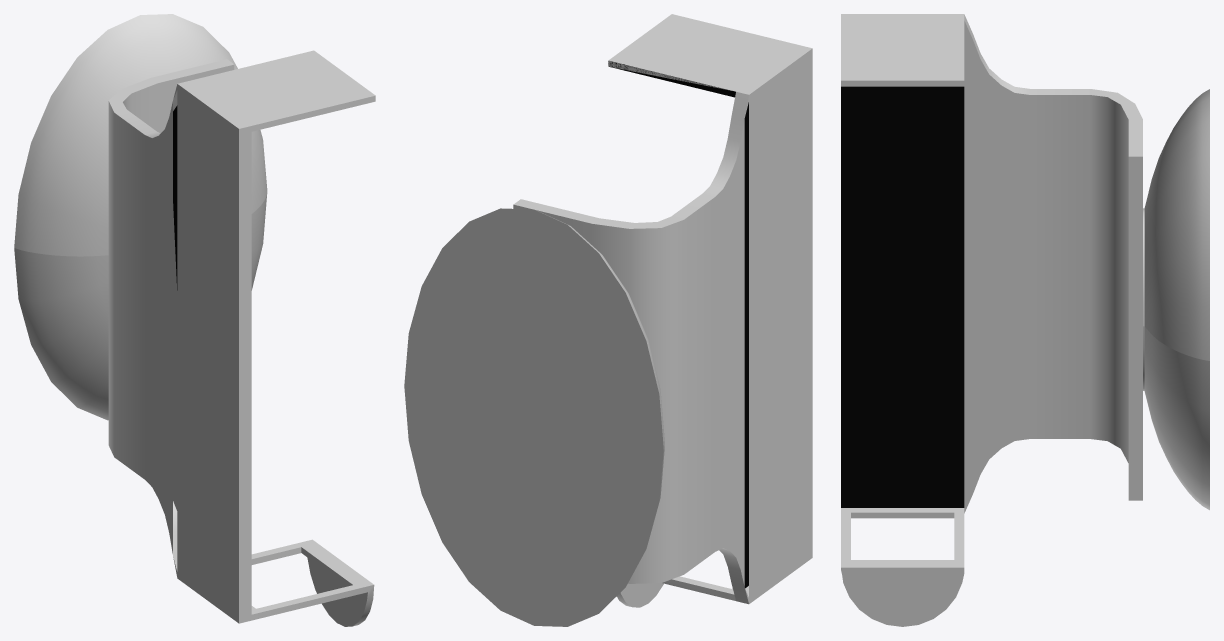
The model's file is support1.gltf.
The picture shows the model from 3 angles, left to right: view 1: azimuth 30°, elevation 25°; view 2: azimuth 150°, elevation 25°; view 3: azimuth 270°, elevation 25°; orthographic projection. The views are drawn at different scales.
Visible parts, largest first — view 1: support, fixation_droite, fixation_gauche; view 2: support, fixation_droite, fixation_gauche; view 3: support, fixation_droite, fixation_gauche.
Boxes of the visible parts, x1=… form: support: x1=108, y1=50, x2=375, y2=626; fixation_droite: x1=14, y1=14, x2=267, y2=256; fixation_gauche: x1=14, y1=195, x2=266, y2=420; support: x1=513, y1=14, x2=812, y2=607; fixation_droite: x1=404, y1=208, x2=664, y2=449; fixation_gauche: x1=404, y1=386, x2=664, y2=626; support: x1=841, y1=14, x2=1142, y2=626; fixation_droite: x1=1143, y1=89, x2=1209, y2=360; fixation_gauche: x1=1143, y1=326, x2=1209, y2=510.
Size of the model in its own units: 0.0712 by 0.148 by 0.0904.
2 materials, 1 textured.
